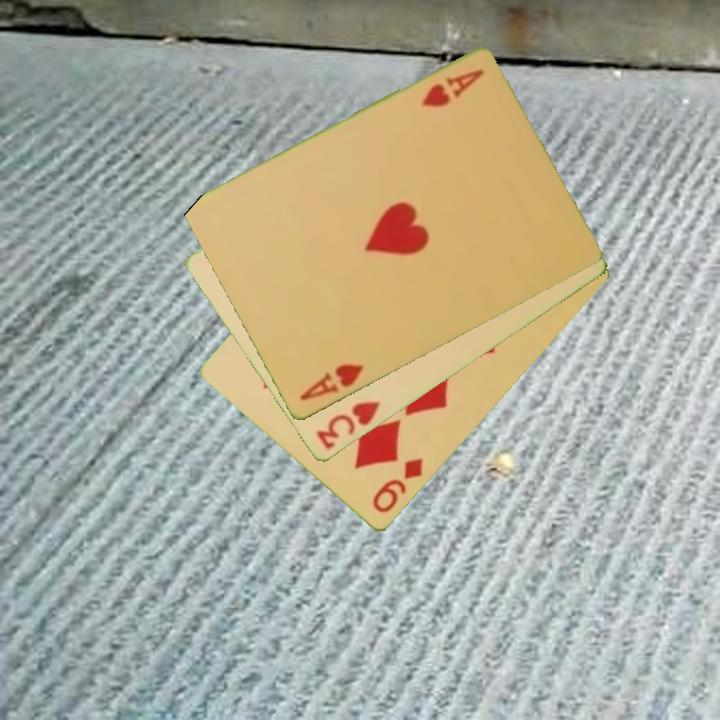3h: (312, 398, 383, 453)
9d: (369, 455, 426, 517)
Ah: (296, 360, 367, 405), (417, 66, 486, 111)
